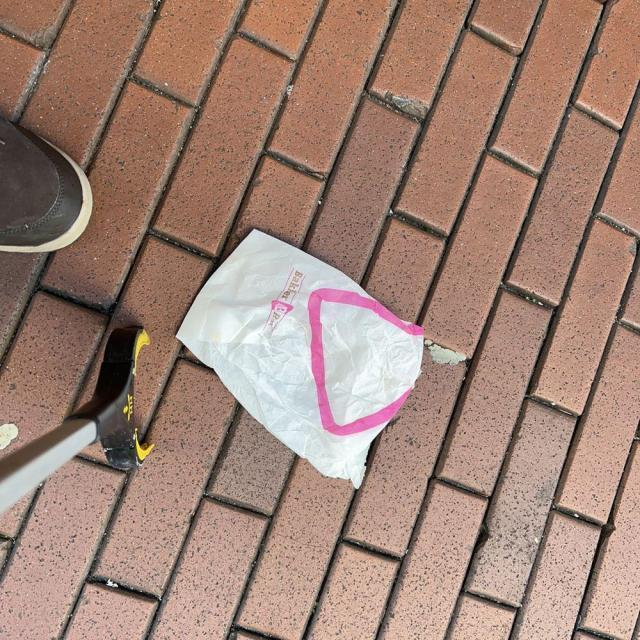Paper: (172, 225, 428, 491)
